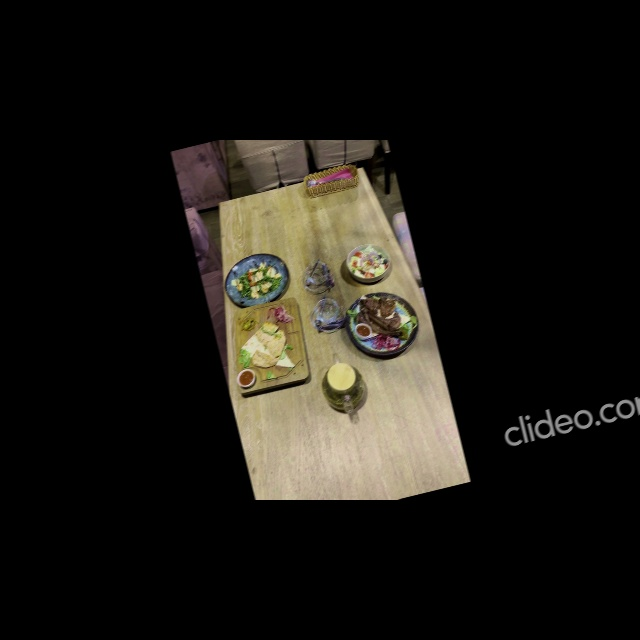графин с чаем: (316, 349, 371, 419)
закуска: (220, 297, 316, 397)
мясное блюдо: (340, 284, 425, 364)
салат: (220, 249, 295, 313)
салат цезарь: (343, 240, 395, 288)
